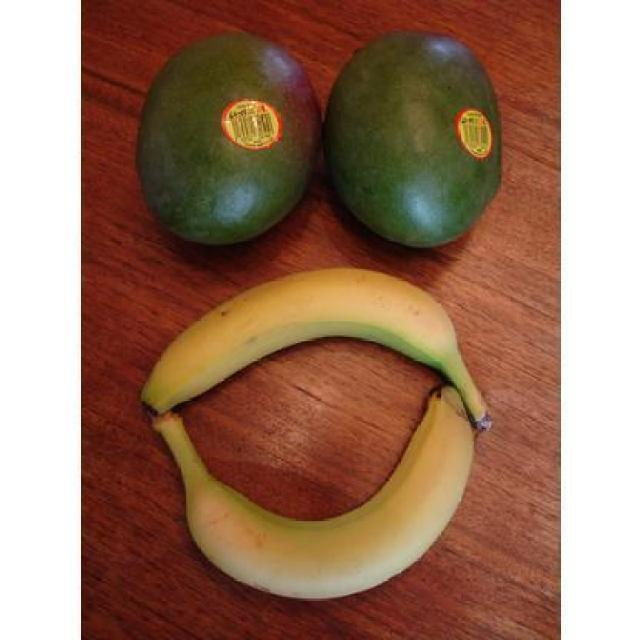Banana: (142, 380, 476, 602), (138, 263, 490, 429)
